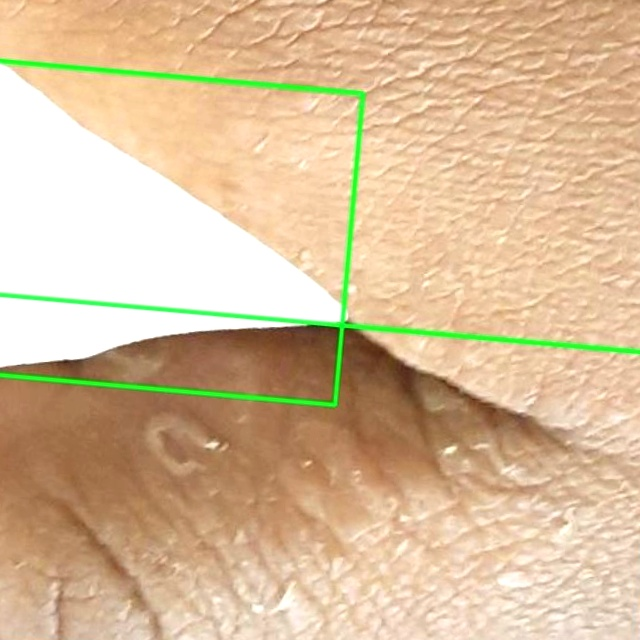Scabies: (0, 295, 639, 639), (0, 61, 364, 405)
